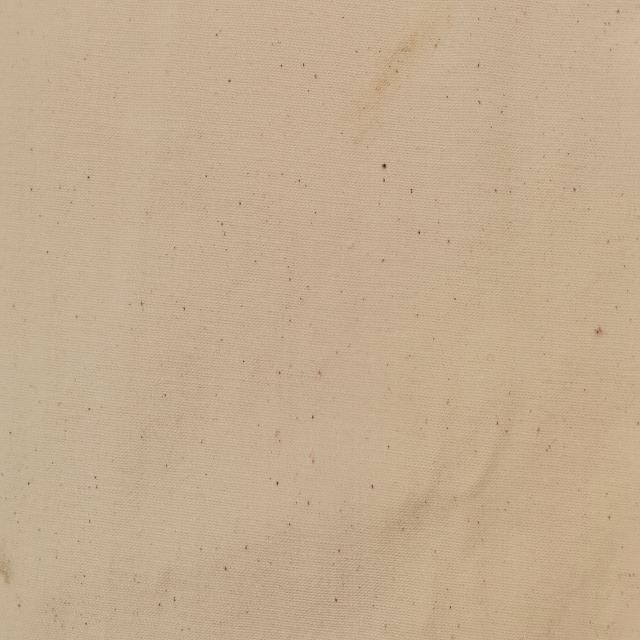taaaches: (367, 5, 460, 84), (0, 542, 15, 586)
